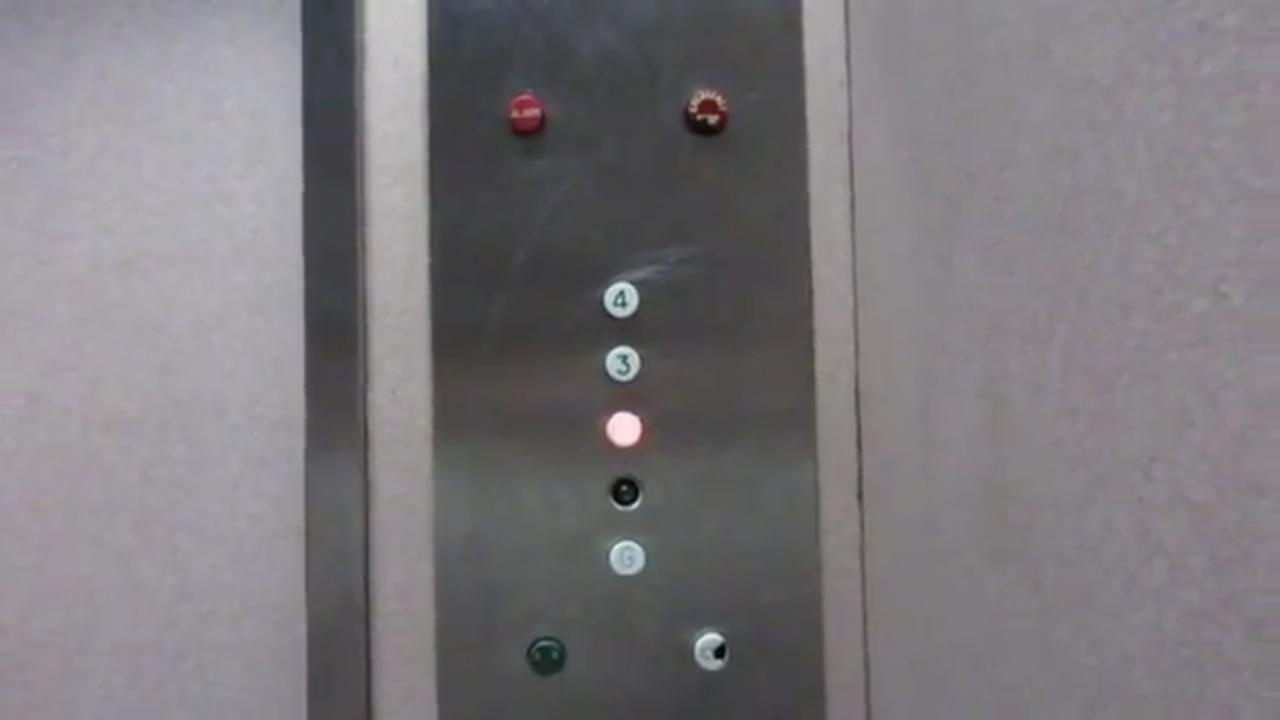3: (597, 341, 647, 385)
4: (594, 278, 644, 322)
G: (602, 535, 652, 579)
blur: (677, 82, 737, 138), (520, 633, 570, 677), (686, 629, 736, 673)
unknown: (500, 90, 551, 137), (599, 405, 649, 449), (599, 471, 649, 515)
